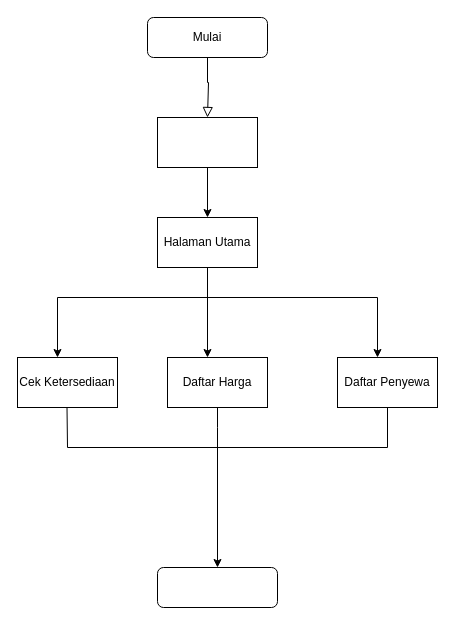
Image size: 455x625. Some labels were removed from this diagram. The box of each missing label's shape, as (x1, y1, x2, y2) in pixels:
Selesai: (156, 566, 278, 608)
SignIn: (156, 116, 258, 168)
